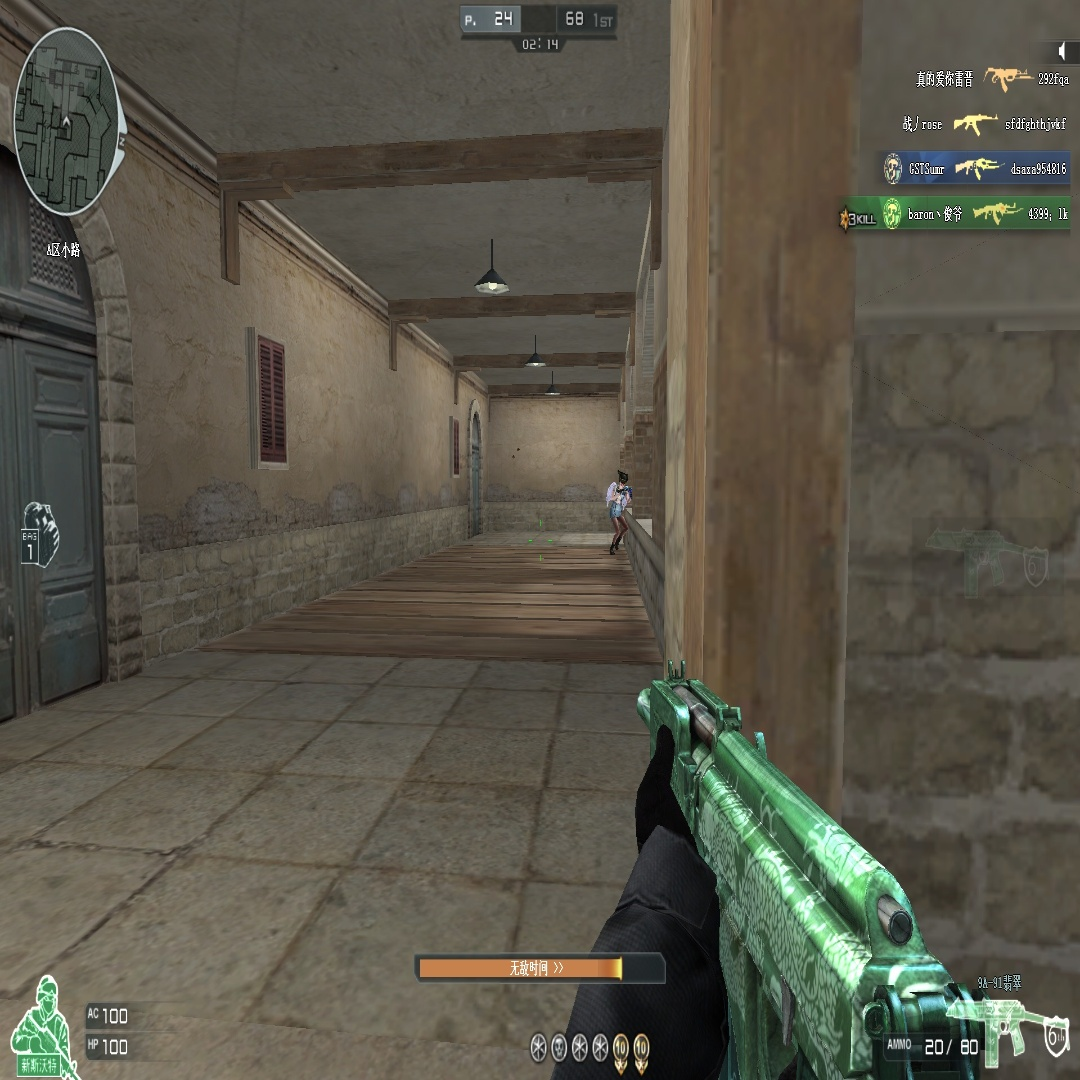p: (606, 474, 631, 555)
